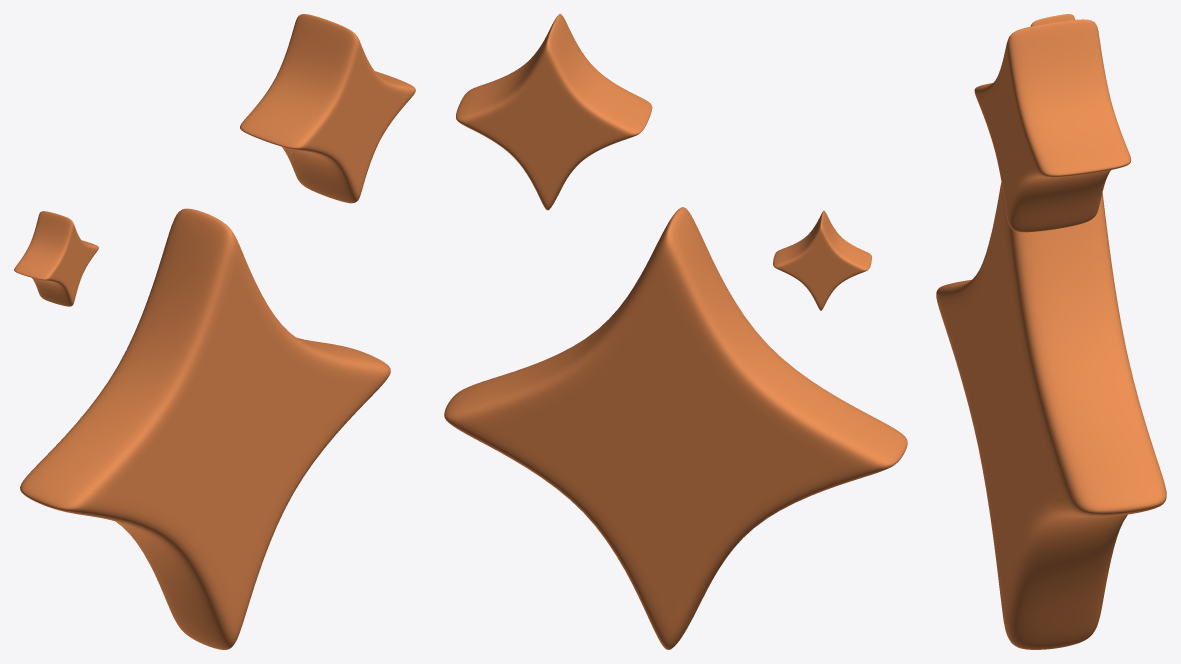
The model's file is spark-3d-animated-icon-1662559224449.glb.
3 renders of one model, left to right at view 1: azimuth 30°, elevation 25°; view 2: azimuth 150°, elevation 25°; view 3: azimuth 270°, elevation 25°, orthographic. The views are drawn at different scales.
Parts seen in each view (by area): view 1: Spark.001, Spark, Spark.002; view 2: Spark.001, Spark, Spark.002; view 3: Spark.001, Spark.
Boxes of the visible parts, box(x1,y1,x2,y2) form: Spark.001: box(20, 208, 390, 649); Spark: box(240, 14, 415, 203); Spark.002: box(14, 211, 98, 306); Spark.001: box(444, 207, 907, 649); Spark: box(456, 14, 652, 210); Spark.002: box(773, 210, 871, 310); Spark.001: box(936, 182, 1166, 649); Spark: box(974, 19, 1130, 232).
Bounding box in the file's own units: 1.95 × 2.69 × 0.8075.
